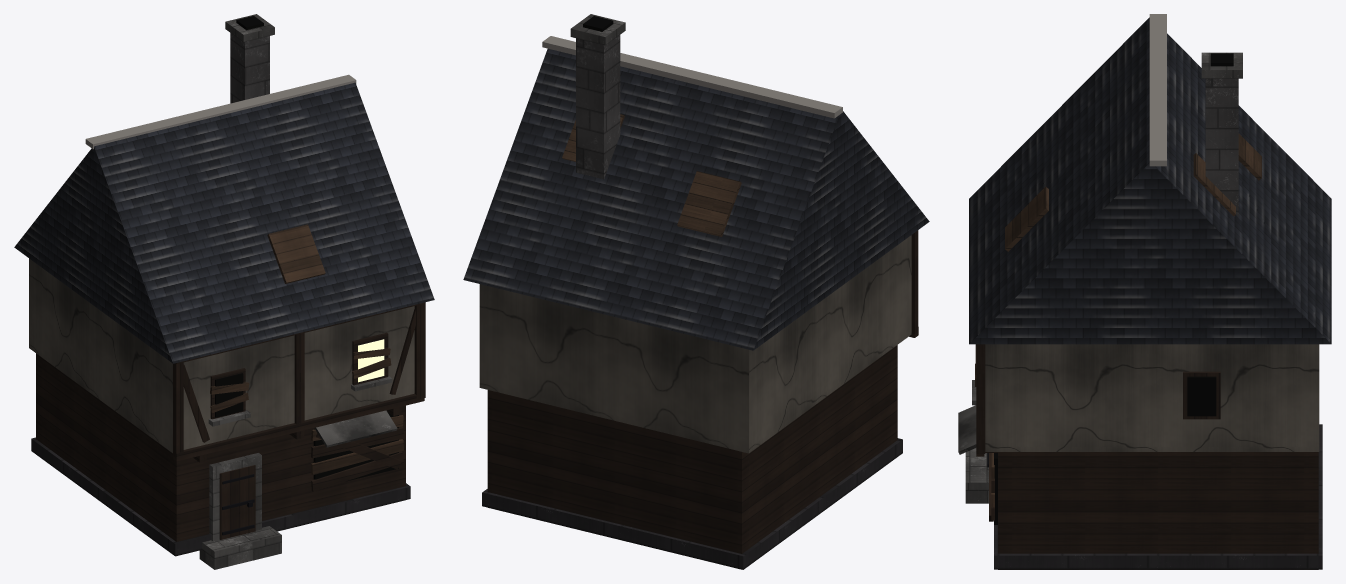
The model's file is CasaS04.gltf.
3 renders of one model, left to right at view 1: azimuth 30°, elevation 25°; view 2: azimuth 150°, elevation 25°; view 3: azimuth 270°, elevation 25°, orthographic. The views are drawn at different scales.
Parts seen in each view (by area): view 1: CasaS04; view 2: CasaS04; view 3: CasaS04.
Part boxes in pixels (box(x1,y1,x2,y2)): CasaS04: box(14, 14, 434, 569); CasaS04: box(463, 14, 929, 569); CasaS04: box(958, 14, 1331, 569).
Size of the model in its own units: 7.6 by 11.86 by 8.19.
Materials: 12 (8 with a texture image).
